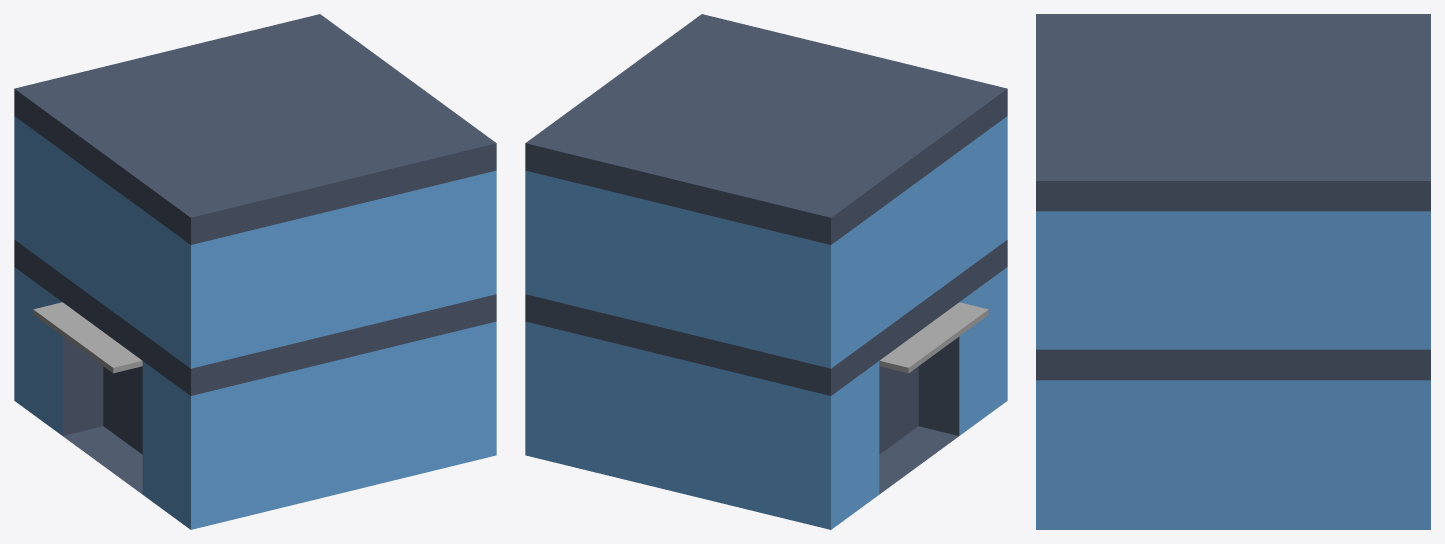
Rendered from building_1x1_9_g.glb.
The picture shows the model from 3 angles, left to right: view 1: azimuth 30°, elevation 25°; view 2: azimuth 150°, elevation 25°; view 3: azimuth 270°, elevation 25°; orthographic projection. The views are drawn at different scales.
Parts seen in each view (by area): view 1: Cube.006; view 2: Cube.006; view 3: Cube.006.
Boxes of the visible parts, left/top/right/bottom form: Cube.006: left=14, top=14, right=496, bottom=529; Cube.006: left=525, top=14, right=1007, bottom=529; Cube.006: left=1036, top=14, right=1430, bottom=529.
Size of the model in its own units: 1.8 by 1.6 by 1.64.
